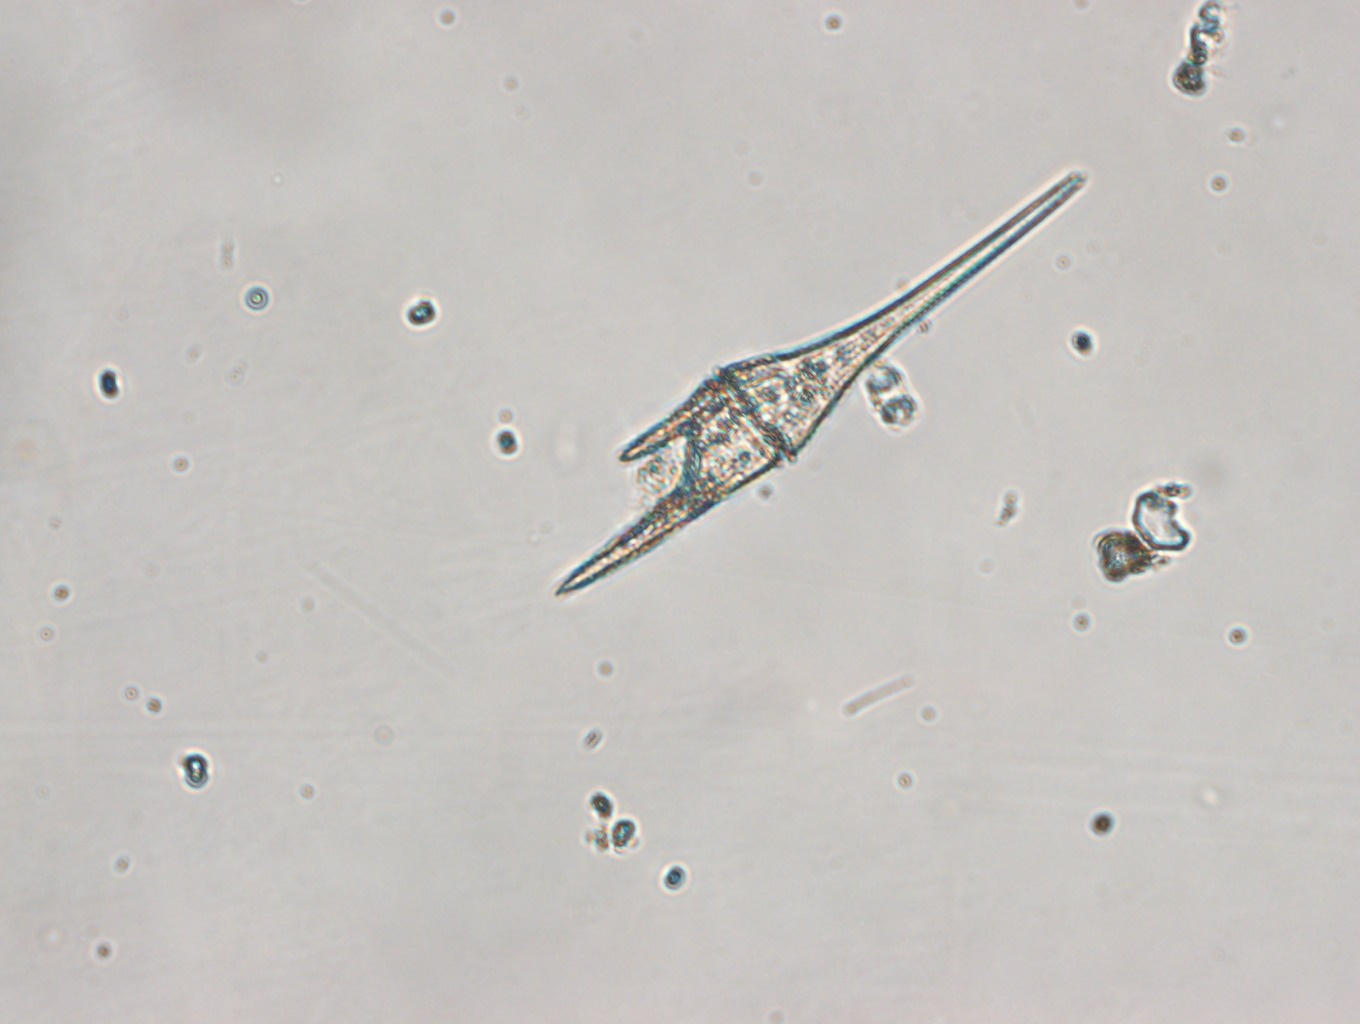ceratium furca: (550, 169, 1089, 599)
